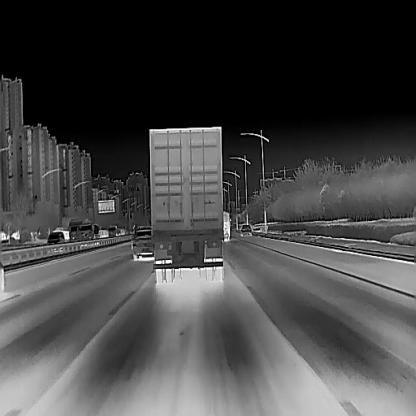bus: (222, 210, 231, 240)
car: (131, 227, 154, 258), (46, 230, 64, 245), (240, 223, 251, 235)
truck: (149, 126, 223, 283), (68, 218, 83, 240), (79, 220, 94, 239), (107, 225, 120, 237)
